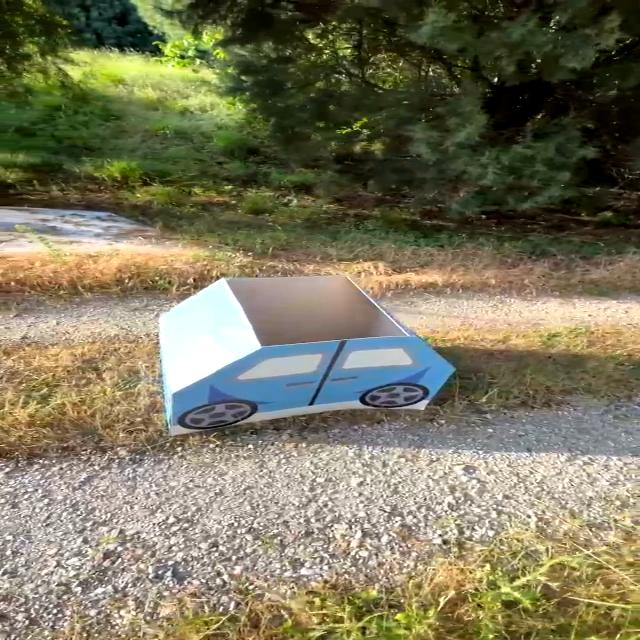blue_car: (125, 266, 480, 432)
